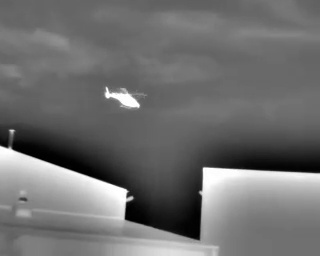HELICOPTER: (101, 82, 152, 117)
